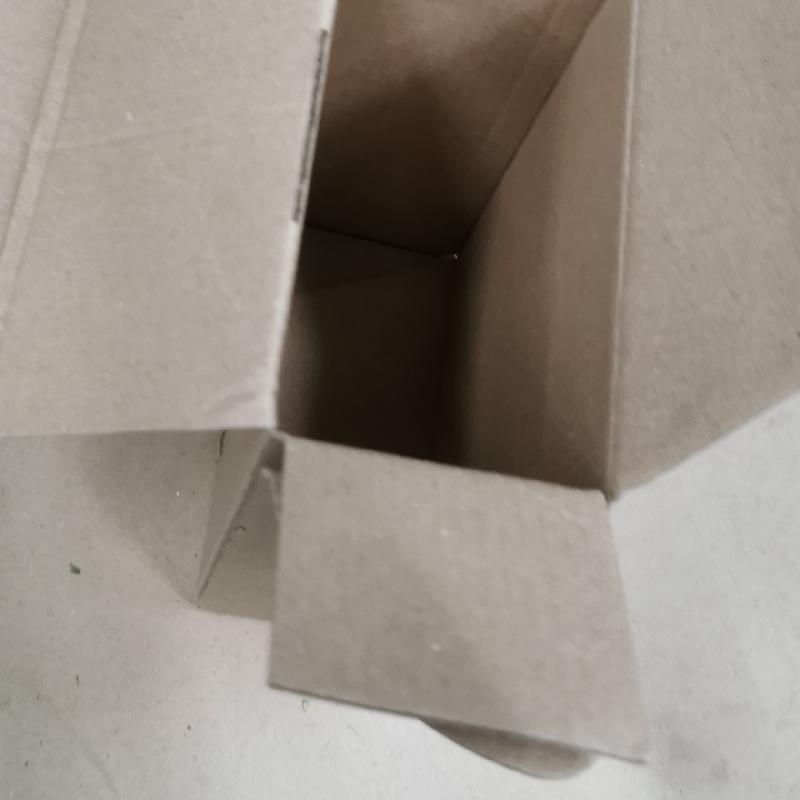boxes: (3, 3, 799, 774)
